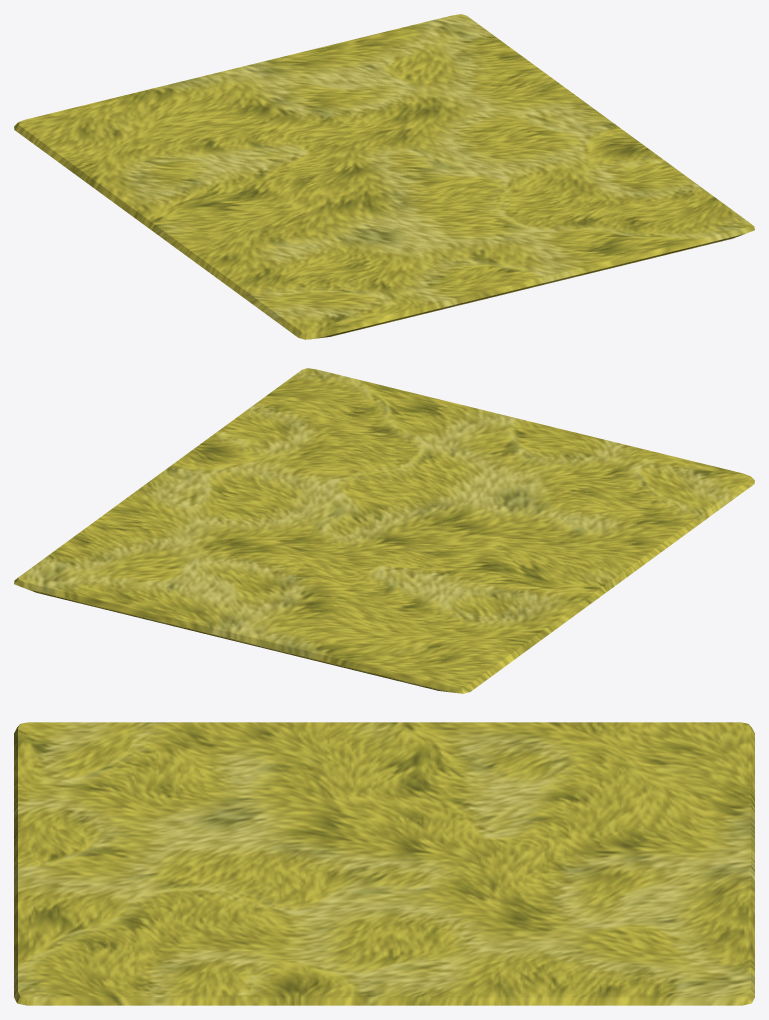
File: Throw_Rug_02.FBX
3 views of the same model, one above another, from view 1: azimuth 30°, elevation 25°; view 2: azimuth 150°, elevation 25°; view 3: azimuth 270°, elevation 25° (orthographic). The views are drawn at different scales.
Visible parts, largest first — view 1: Shag_Carpet; view 2: Shag_Carpet; view 3: Shag_Carpet.
Part boxes in pixels (x1=…): Shag_Carpet: x1=14, y1=14, x2=754, y2=339; Shag_Carpet: x1=14, y1=368, x2=754, y2=693; Shag_Carpet: x1=14, y1=722, x2=754, y2=1005.
Size of the model in its own units: 244 by 3.17 by 273.
